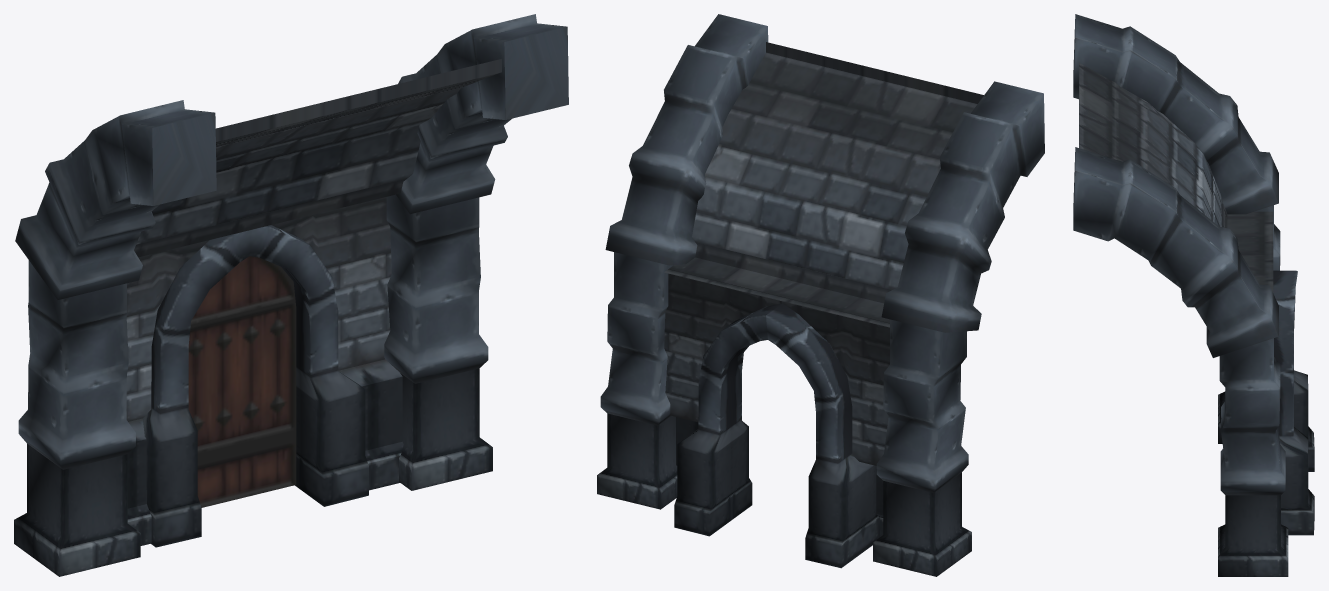
File: wall dungeon2.FBX
3 renders of one model, left to right at view 1: azimuth 30°, elevation 25°; view 2: azimuth 150°, elevation 25°; view 3: azimuth 270°, elevation 25°, orthographic. The views are drawn at different scales.
Visible parts, largest first — view 1: wall dungeon2; view 2: wall dungeon2; view 3: wall dungeon2.
Part boxes in pixels (x1,y1,x2,y2): wall dungeon2: (14,14,568,576); wall dungeon2: (597,14,1044,576); wall dungeon2: (1073,14,1314,576).
Size of the model in its own units: 616 by 696 by 379.
